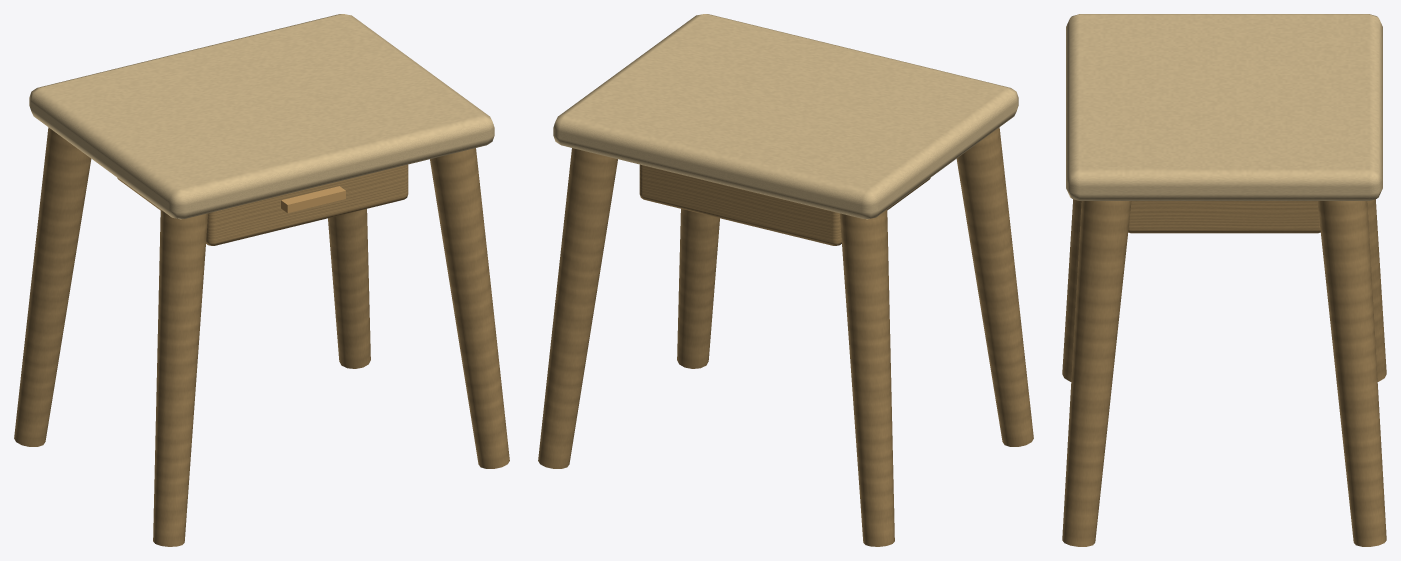
File: night_table_veranda-914fd7e0d6be.glb
The picture shows the model from 3 angles, left to right: view 1: azimuth 30°, elevation 25°; view 2: azimuth 150°, elevation 25°; view 3: azimuth 270°, elevation 25°; orthographic projection. The views are drawn at different scales.
Visible parts, largest first — view 1: surface_plaster, surface_bamboo, surface_brass; view 2: surface_plaster, surface_bamboo; view 3: surface_plaster, surface_bamboo.
Part boxes in pixels (box(x1,y1,x2,y2)): surface_plaster: box(29, 14, 494, 219); surface_bamboo: box(14, 127, 509, 546); surface_brass: box(281, 186, 345, 213); surface_plaster: box(553, 14, 1018, 219); surface_bamboo: box(538, 127, 1033, 546); surface_plaster: box(1066, 14, 1382, 200); surface_bamboo: box(1062, 199, 1386, 546).
Bounding box in the file's own units: 0.5379 × 0.5125 × 0.4093.
Materials: 3 (2 with a texture image).
